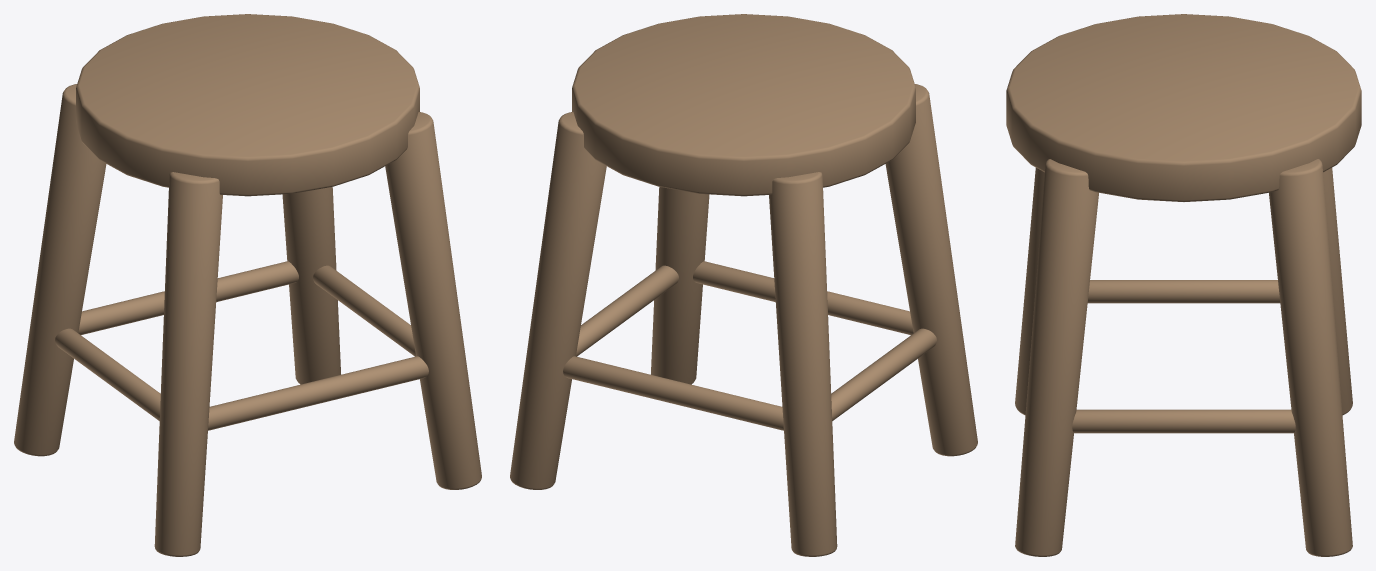
File: reading_chair.glb
3 views of the same model, side by side, from view 1: azimuth 30°, elevation 25°; view 2: azimuth 150°, elevation 25°; view 3: azimuth 270°, elevation 25° (orthographic). The views are drawn at different scales.
Parts seen in each view (by area): view 1: StationaryReferenceRoundStool; view 2: StationaryReferenceRoundStool; view 3: StationaryReferenceRoundStool.
Part boxes in pixels (bbox=[...]): StationaryReferenceRoundStool: bbox=[14, 14, 481, 556]; StationaryReferenceRoundStool: bbox=[510, 14, 977, 556]; StationaryReferenceRoundStool: bbox=[1006, 14, 1361, 556].
Bounding box in the file's own units: 0.3231 × 0.3664 × 0.3.
